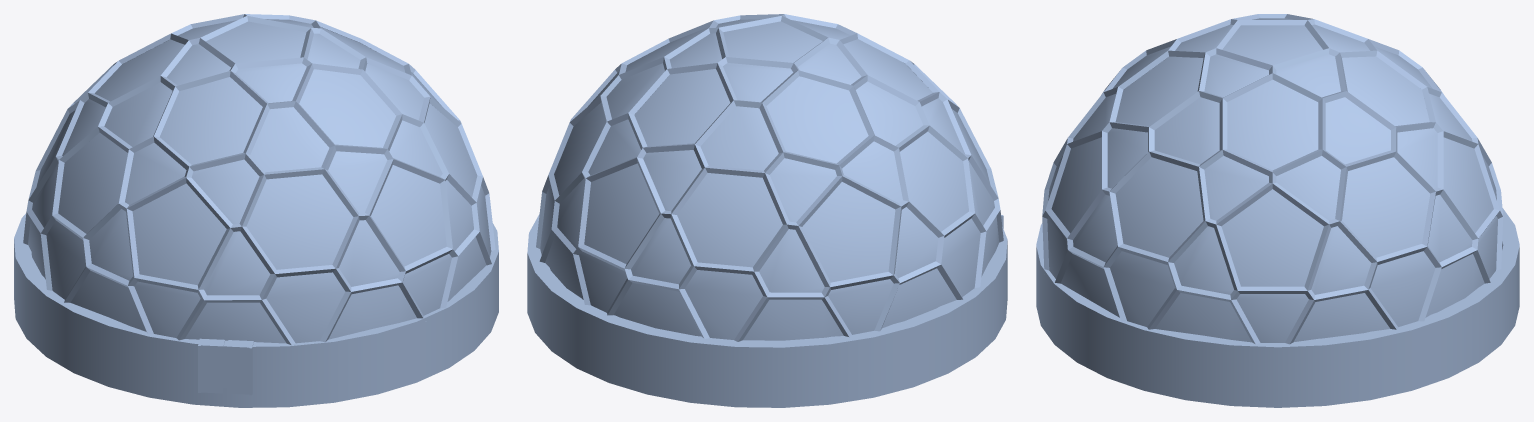
Rendered from Mission_Object_02.fbx.
3 views of the same model, side by side, from view 1: azimuth 30°, elevation 25°; view 2: azimuth 150°, elevation 25°; view 3: azimuth 270°, elevation 25° (orthographic).
Visible parts, largest first — view 1: Icosphere; view 2: Icosphere; view 3: Icosphere.
Boxes of the visible parts, left/top/right/bottom form: Icosphere: left=14, top=14, right=498, bottom=407; Icosphere: left=527, top=14, right=1007, bottom=407; Icosphere: left=1036, top=14, right=1519, bottom=407.
Size of the model in its own units: 1.76 by 1.07 by 1.76.
